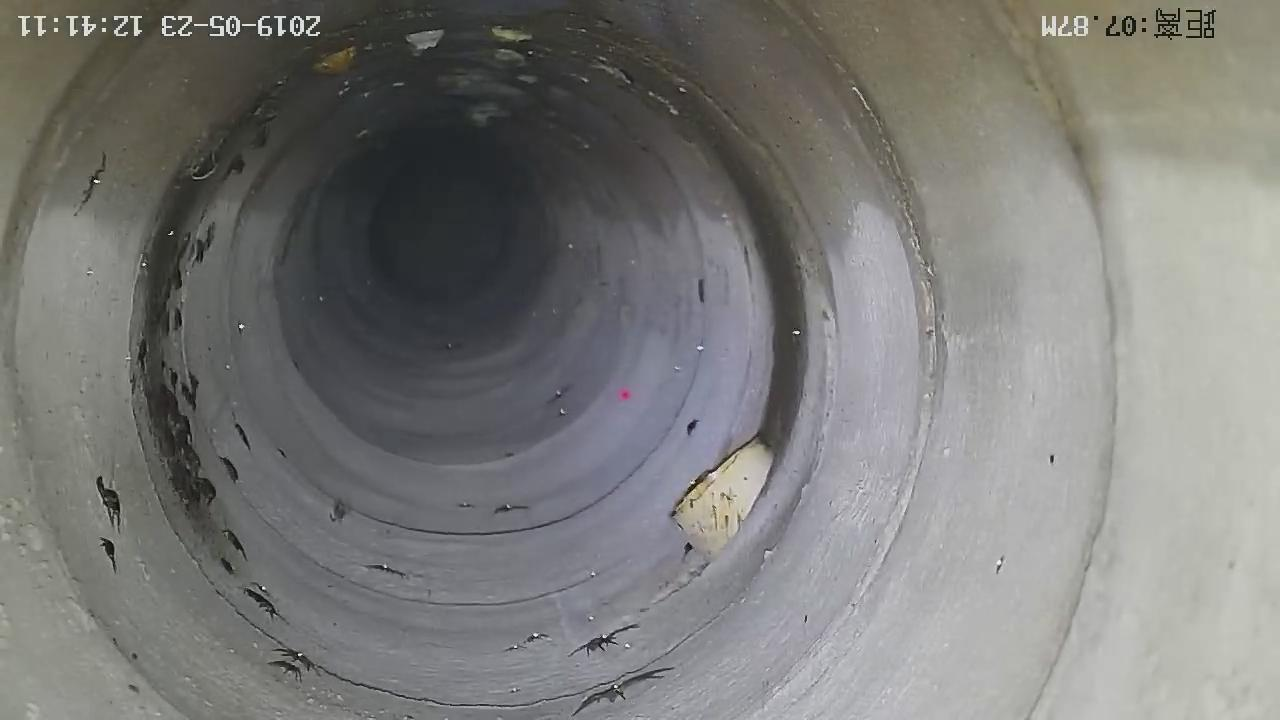ZGAJ: (674, 439, 774, 559)
